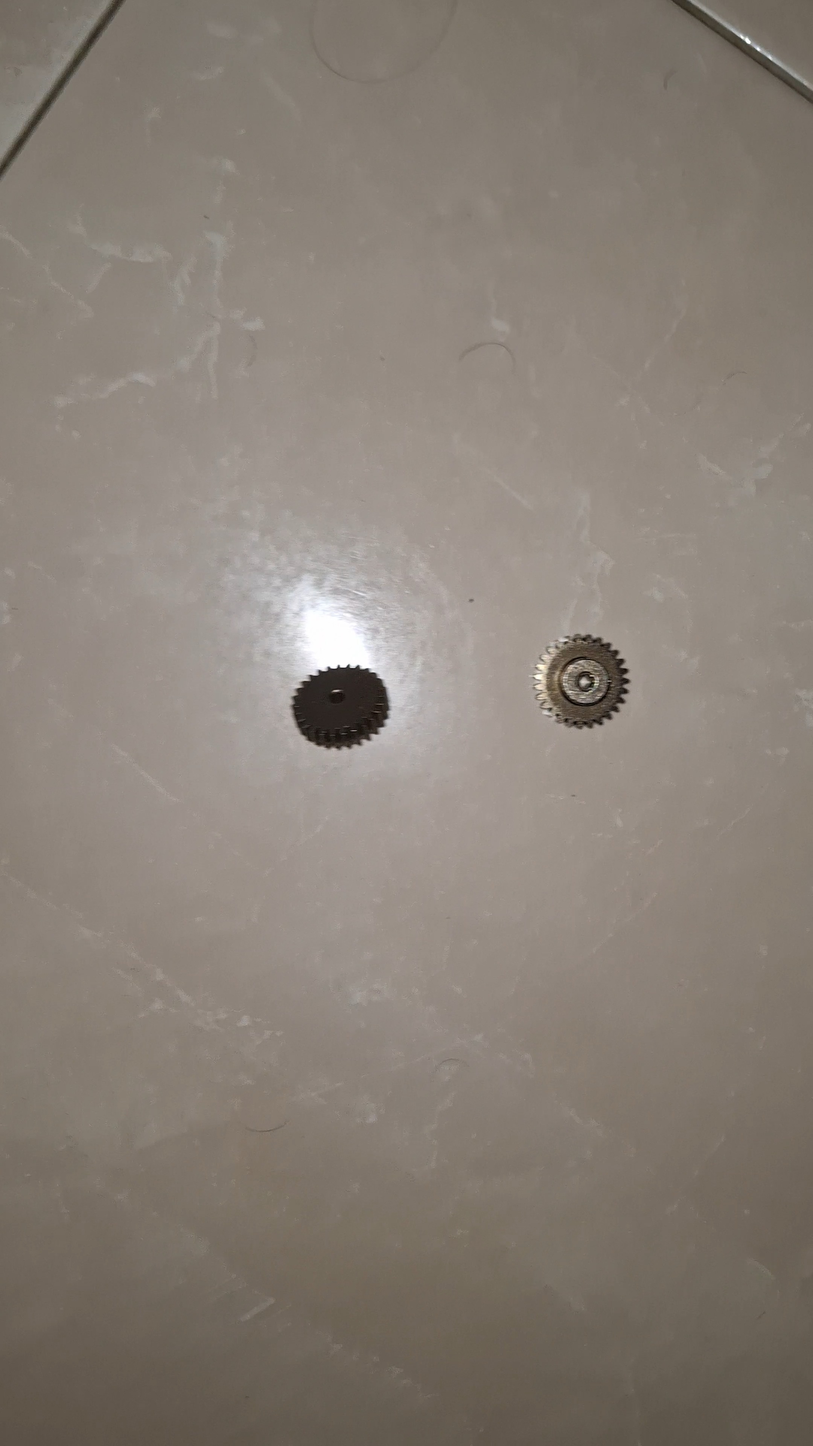spur gear: (534, 635, 627, 727), (292, 666, 388, 747)
